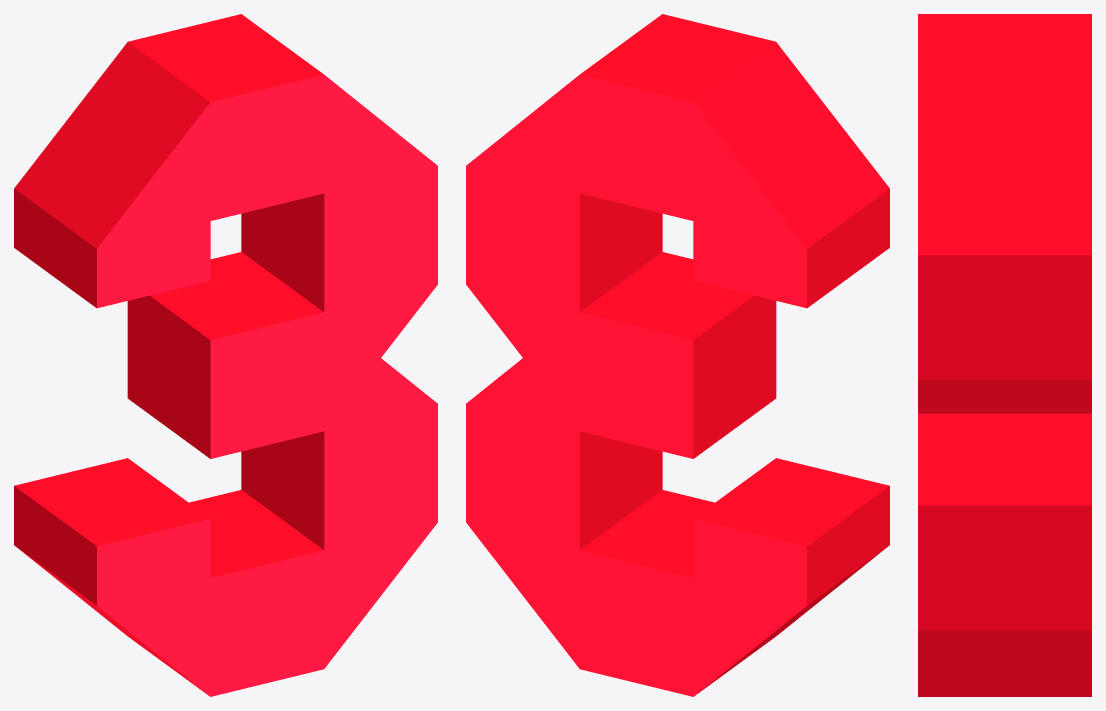
The model's file is 676714ac-f2f9-4daa-aa8d-ba5e4580edd9.glb.
3 views of the same model, side by side, from view 1: azimuth 30°, elevation 25°; view 2: azimuth 150°, elevation 25°; view 3: azimuth 270°, elevation 25° (orthographic). The views are drawn at different scales.
Visible parts, largest first — view 1: 3_DeltaBlock_Red; view 2: 3_DeltaBlock_Red; view 3: 3_DeltaBlock_Red.
Part boxes in pixels (box(x1,y1,x2,y2)): 3_DeltaBlock_Red: box(14, 14, 437, 696); 3_DeltaBlock_Red: box(466, 14, 889, 696); 3_DeltaBlock_Red: box(918, 14, 1091, 696).
Size of what is drawn, in the model's own units: 0.1071 by 0.1786 by 0.045.
2 materials, 2 textured.
